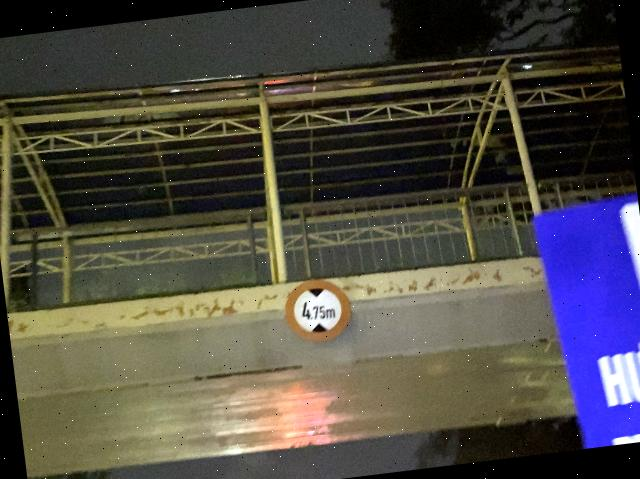han-che-chieu-cao: (280, 276, 354, 346)
